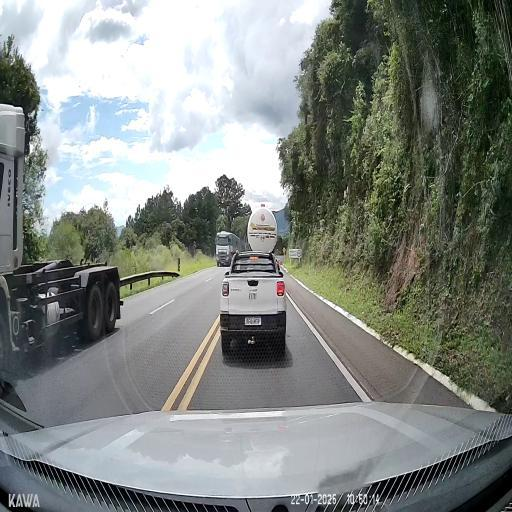R-19: (297, 250, 301, 256)
